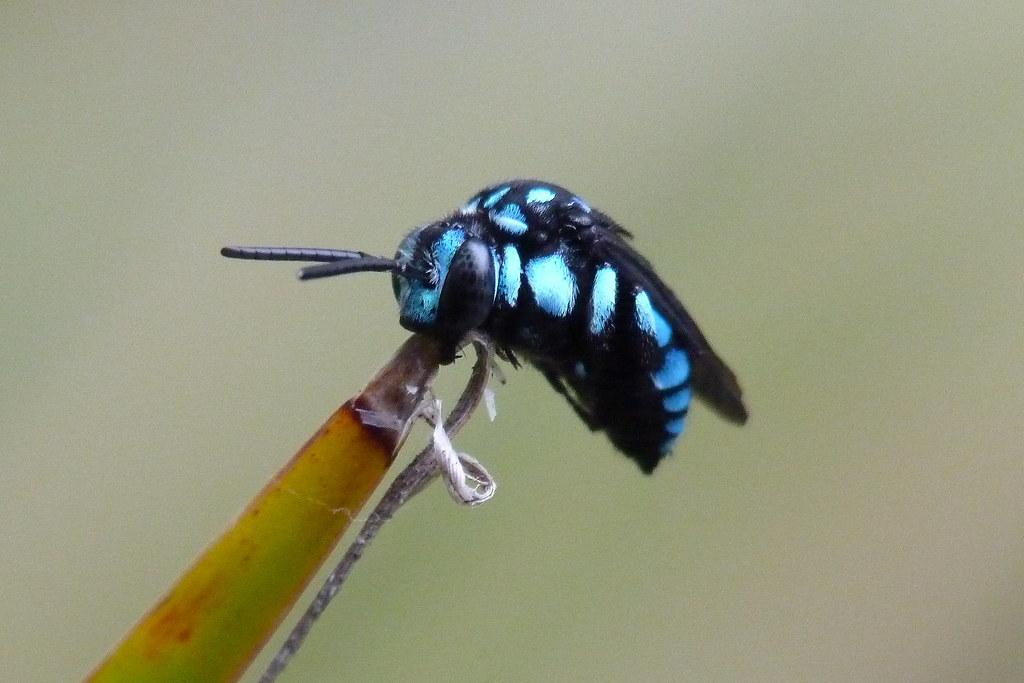Thyreus: (213, 167, 773, 498)
